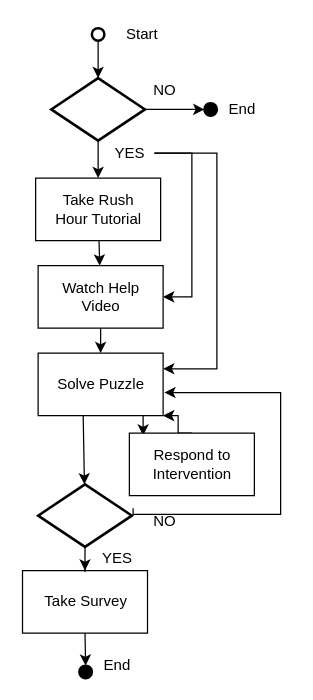
This 313x700 diagram has some shape labels left out. Here are the shapes that lost their labels. From the top down, the centre of each, then its label:
pixel 97 108: consent
pixel 84 515: solution found
